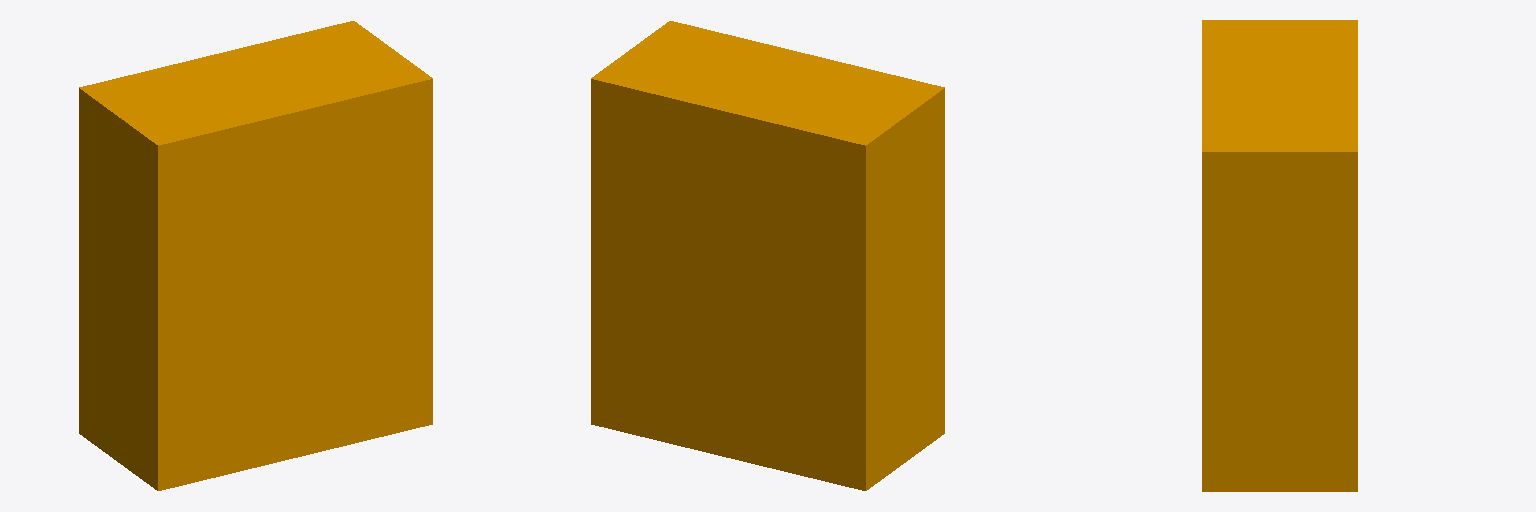
robot.urdf — WhiteCabinet:
<?xml version="1.0" ?>
<robot name="WhiteCabinet">
  <link name="body">
    <inertial>
      <origin xyz="0 0 0" rpy="0 0 0"/>
      <mass value="1.0"/>
      <inertia ixx="0.1" ixy="0.0" ixz="0.0" iyy="0.1" iyz="0.0" izz="0.1"/>
    </inertial>
    <visual name="visual">
      <origin xyz="0 0 0" rpy="0 0 0"/>
      <geometry>
        <mesh filename="meshes/BlackMarbleCabinet.obj"/>
      </geometry>
    </visual>
    <collision name="collision">
      <origin xyz="0 0 0" rpy="0 0 0"/>
      <geometry>
        <mesh filename="meshes/BlackMarbleCabinet.obj"/>
      </geometry>
    </collision>
  </link>
</robot>

--- Render facts (derived) ---
The picture shows the robot from 3 angles, left to right: view 1: azimuth 30°, elevation 25°; view 2: azimuth 150°, elevation 25°; view 3: azimuth 270°, elevation 25°; orthographic projection.
Robot: WhiteCabinet — 1 links, 0 joints (none); root link body; default pose: all joints at 0.
Visible links, largest first — view 1: body; view 2: body; view 3: body.
Link boxes in pixels (left/top/right/bottom): body: left=79, top=21, right=432, bottom=490; body: left=591, top=21, right=944, bottom=490; body: left=1202, top=20, right=1357, bottom=491.
Size in the robot's own frame: 0.9 by 0.45 by 1.08 metres.
Meshes: 1 distinct files referenced, 1 mesh visuals loaded (1 OBJ).